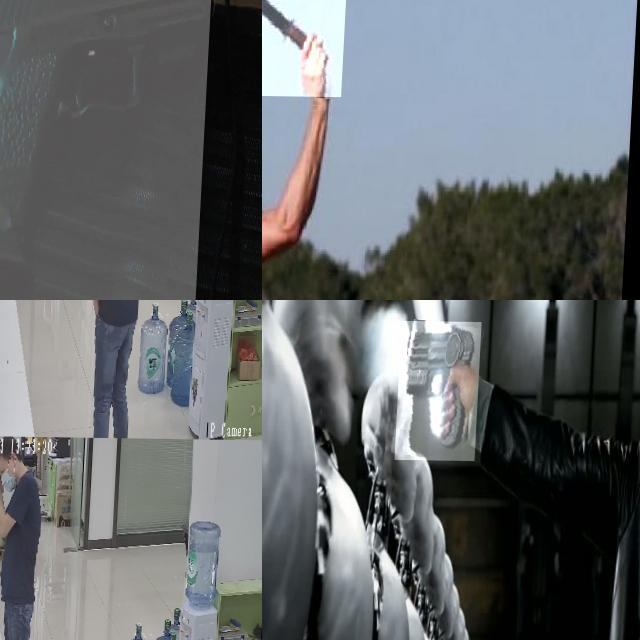-: (262, 0, 348, 95)
gun-knife-thesis - v11 Yolov5 augmented: (0, 0, 216, 300), (398, 320, 483, 460), (61, 300, 89, 321), (0, 534, 16, 570), (0, 524, 13, 551), (0, 300, 13, 322)
